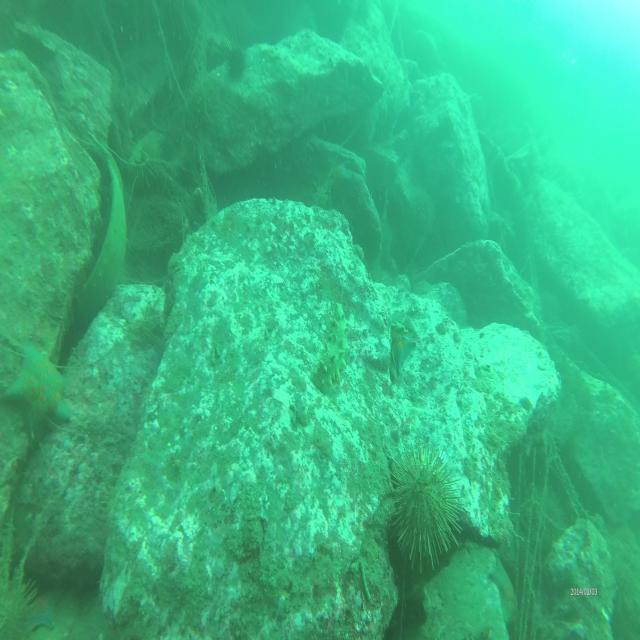echinus: (385, 438, 470, 573), (134, 134, 164, 196), (184, 75, 215, 133), (225, 40, 252, 81)
holothurian: (313, 300, 352, 390)
starfish: (4, 334, 74, 436)
